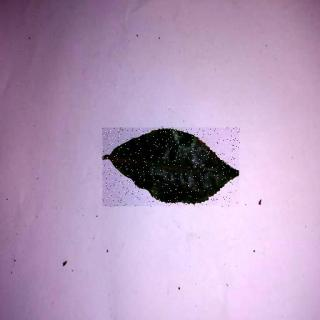Bird Eye Spot: (104, 129, 242, 209)
